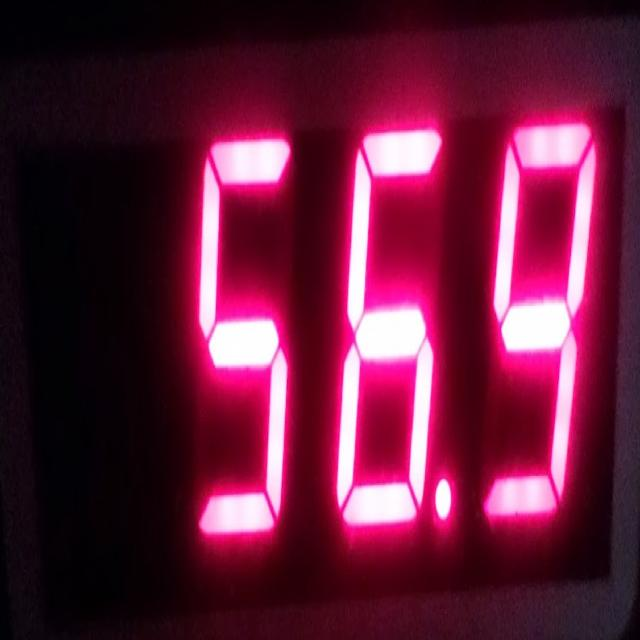.: (434, 472, 453, 524)
5: (186, 122, 300, 542)
6: (333, 110, 445, 536)
9: (483, 114, 599, 534)
